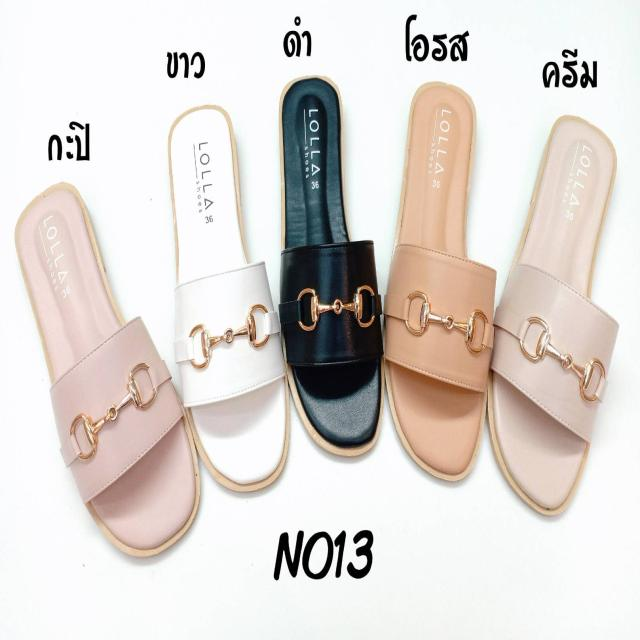black: (278, 99, 383, 461)
cream: (494, 119, 612, 508)
kapi: (20, 175, 192, 556)
orot: (388, 81, 488, 488)
white: (168, 115, 288, 488)
